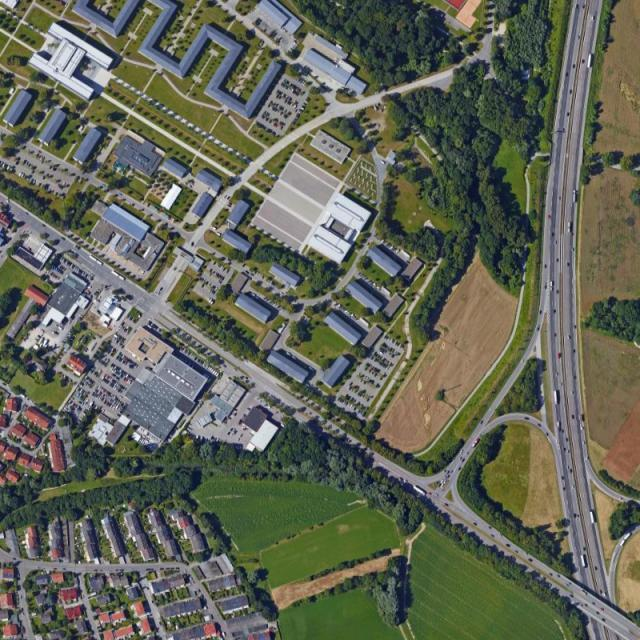vehicle: (110, 269, 126, 281), (90, 255, 104, 268), (619, 532, 631, 547), (414, 486, 427, 496), (472, 438, 481, 448), (586, 55, 592, 68), (580, 555, 586, 568), (554, 390, 558, 406), (590, 511, 595, 523), (550, 282, 554, 292), (573, 191, 576, 203), (568, 222, 571, 233), (462, 458, 466, 462), (537, 328, 540, 332), (538, 424, 542, 427), (572, 486, 574, 490), (569, 335, 571, 339), (525, 418, 529, 420)
